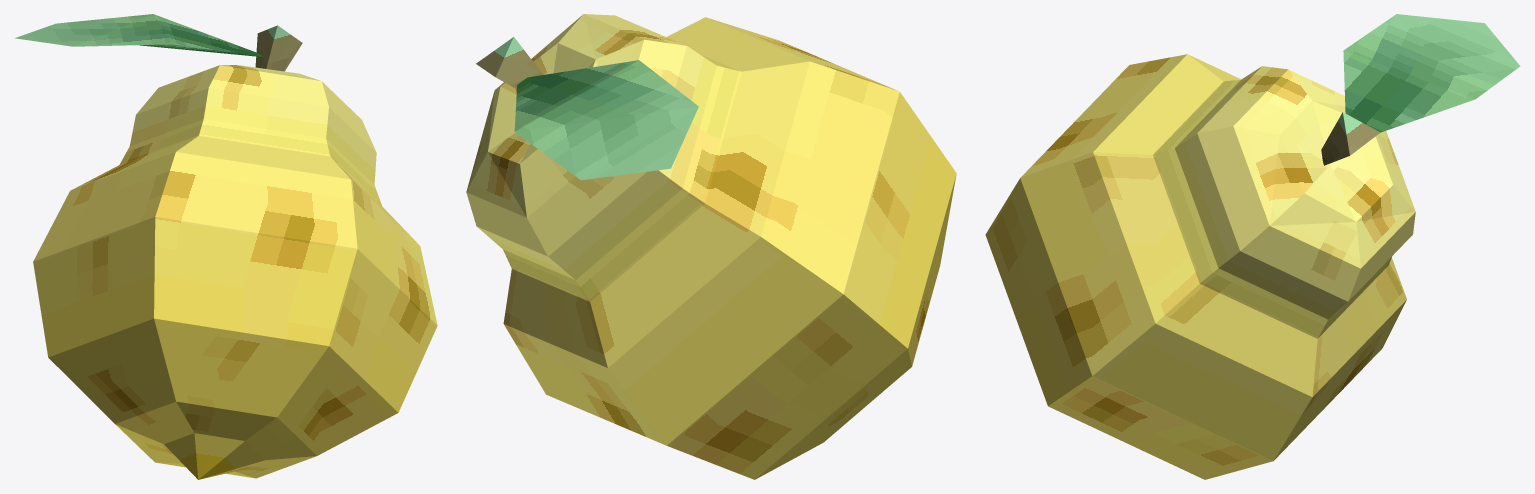
Rendered from item_it08_01_OBON.dae.
3 renders of one model, left to right at view 1: azimuth 30°, elevation 25°; view 2: azimuth 150°, elevation 25°; view 3: azimuth 270°, elevation 25°, orthographic. The views are drawn at different scales.
Visible parts, largest first — view 1: vsn_mesh_0_obon; view 2: vsn_mesh_0_obon; view 3: vsn_mesh_0_obon.
Part boxes in pixels (x1,y1,x2,y2): vsn_mesh_0_obon: (15,14,437,479); vsn_mesh_0_obon: (466,14,956,479); vsn_mesh_0_obon: (985,14,1520,479).
Bounding box in the file's own units: 0.3584 × 0.3829 × 0.4635.
Materials: 1 (1 with a texture image).
